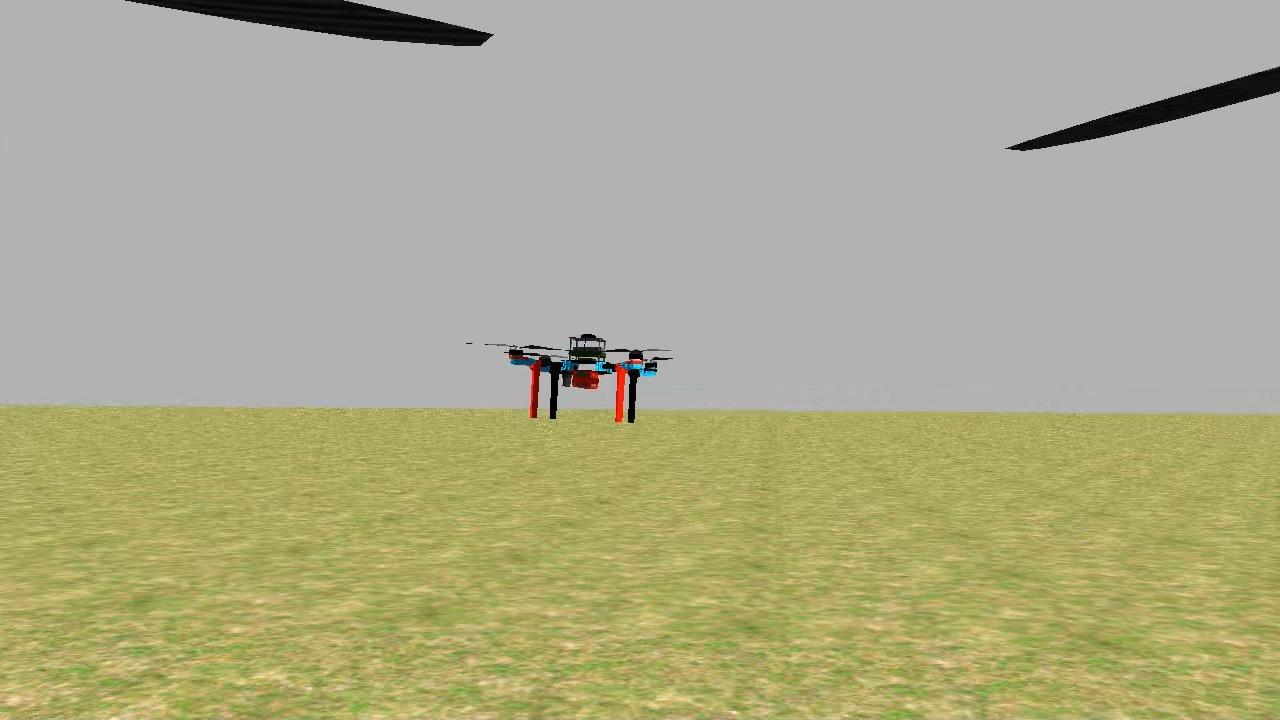UAV: (494, 321, 665, 439)
